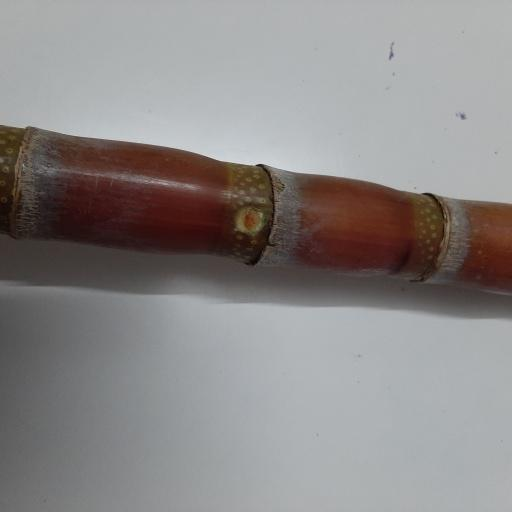Damage_Bud: (233, 205, 266, 236)
